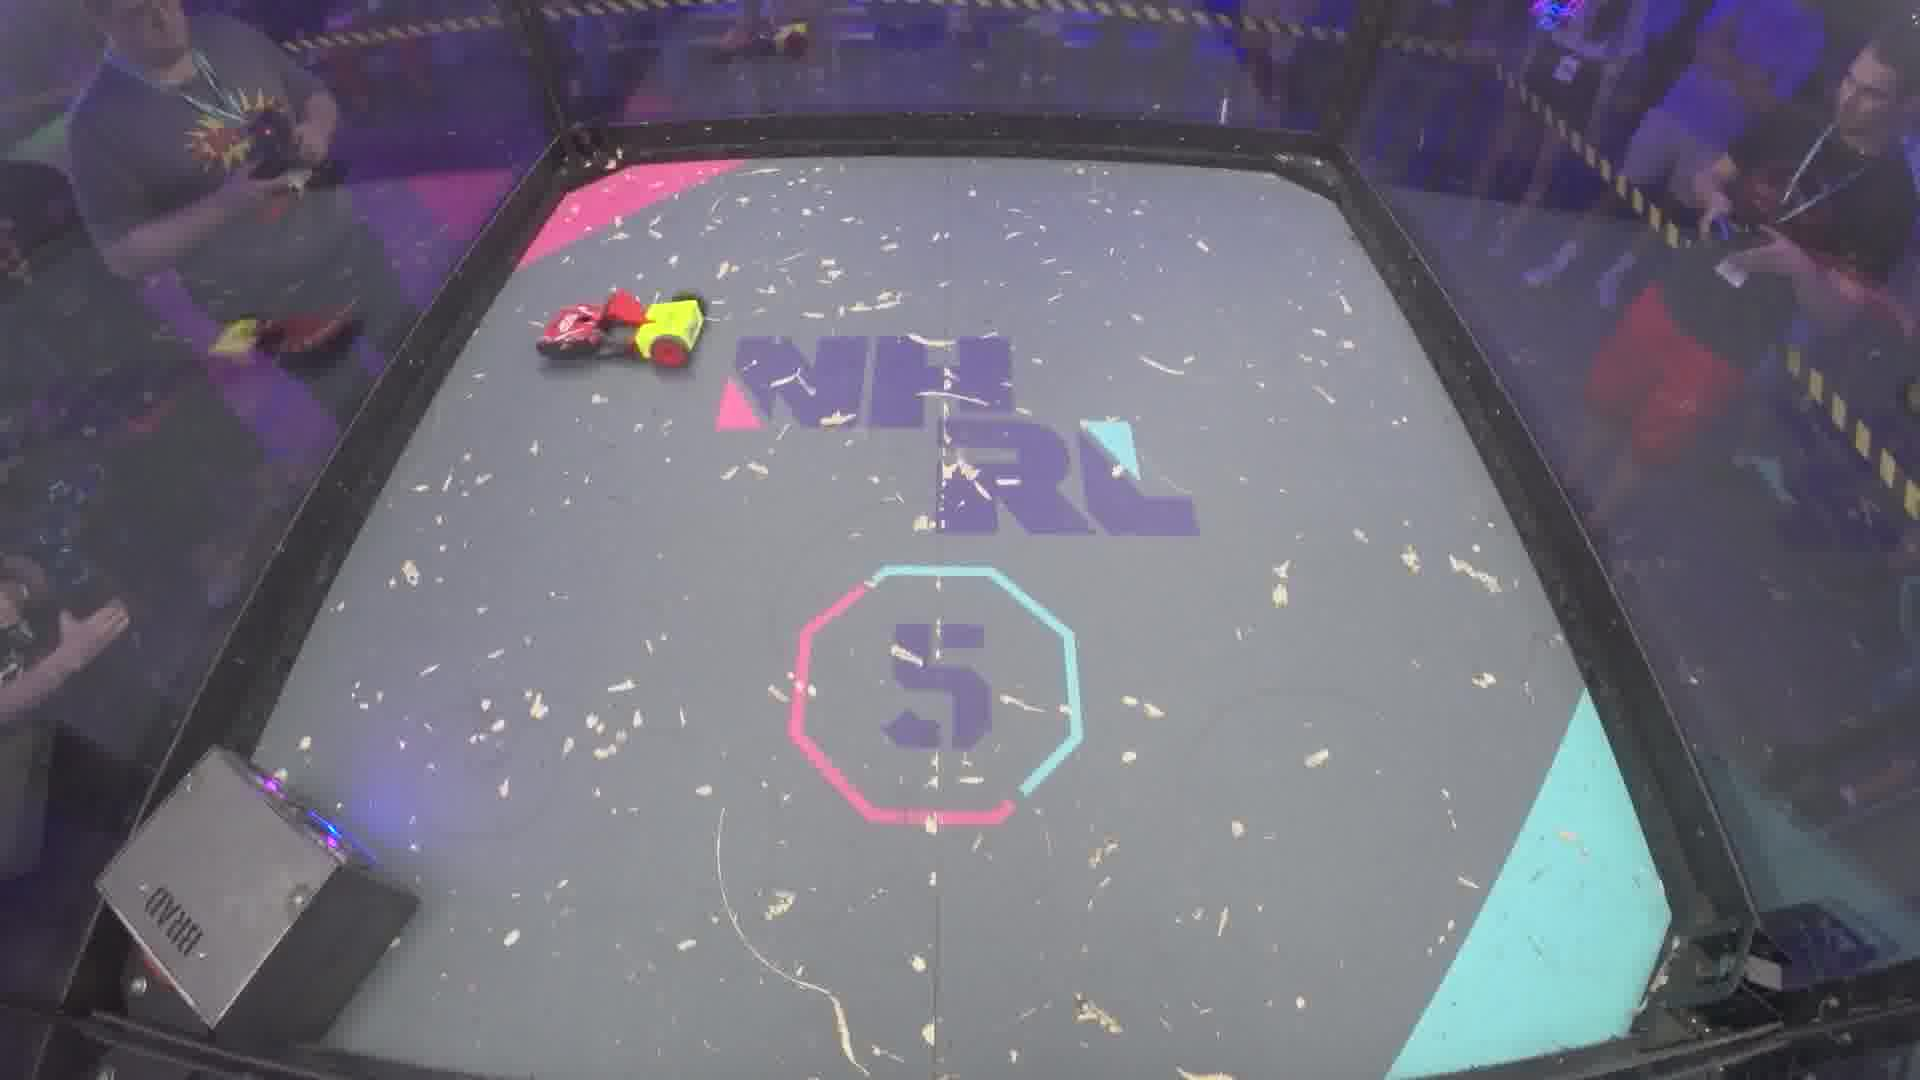combatbot: (628, 293, 708, 375), (535, 289, 605, 369)
housebot: (94, 745, 423, 1067)
